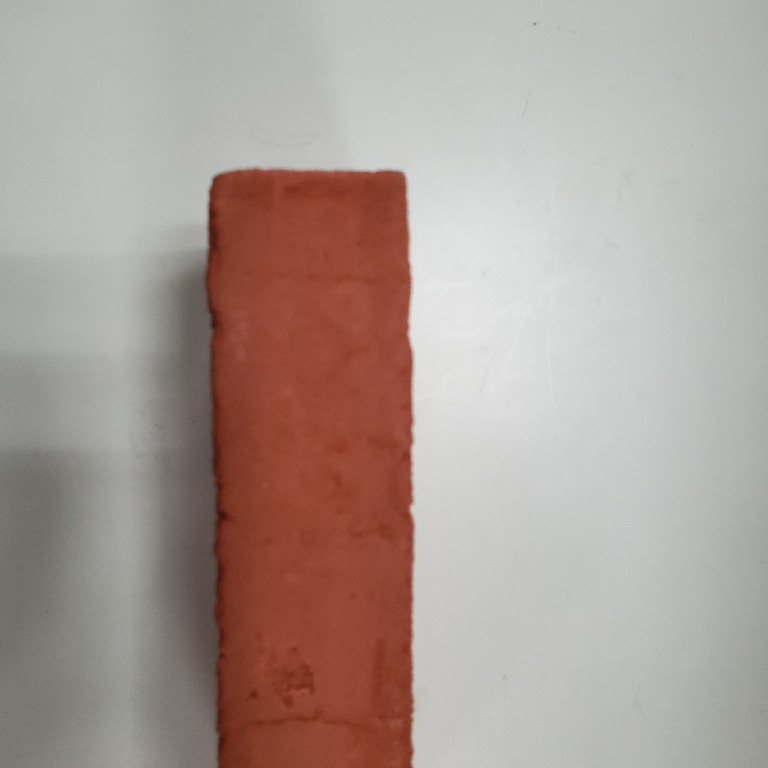brick: (198, 159, 428, 768)
